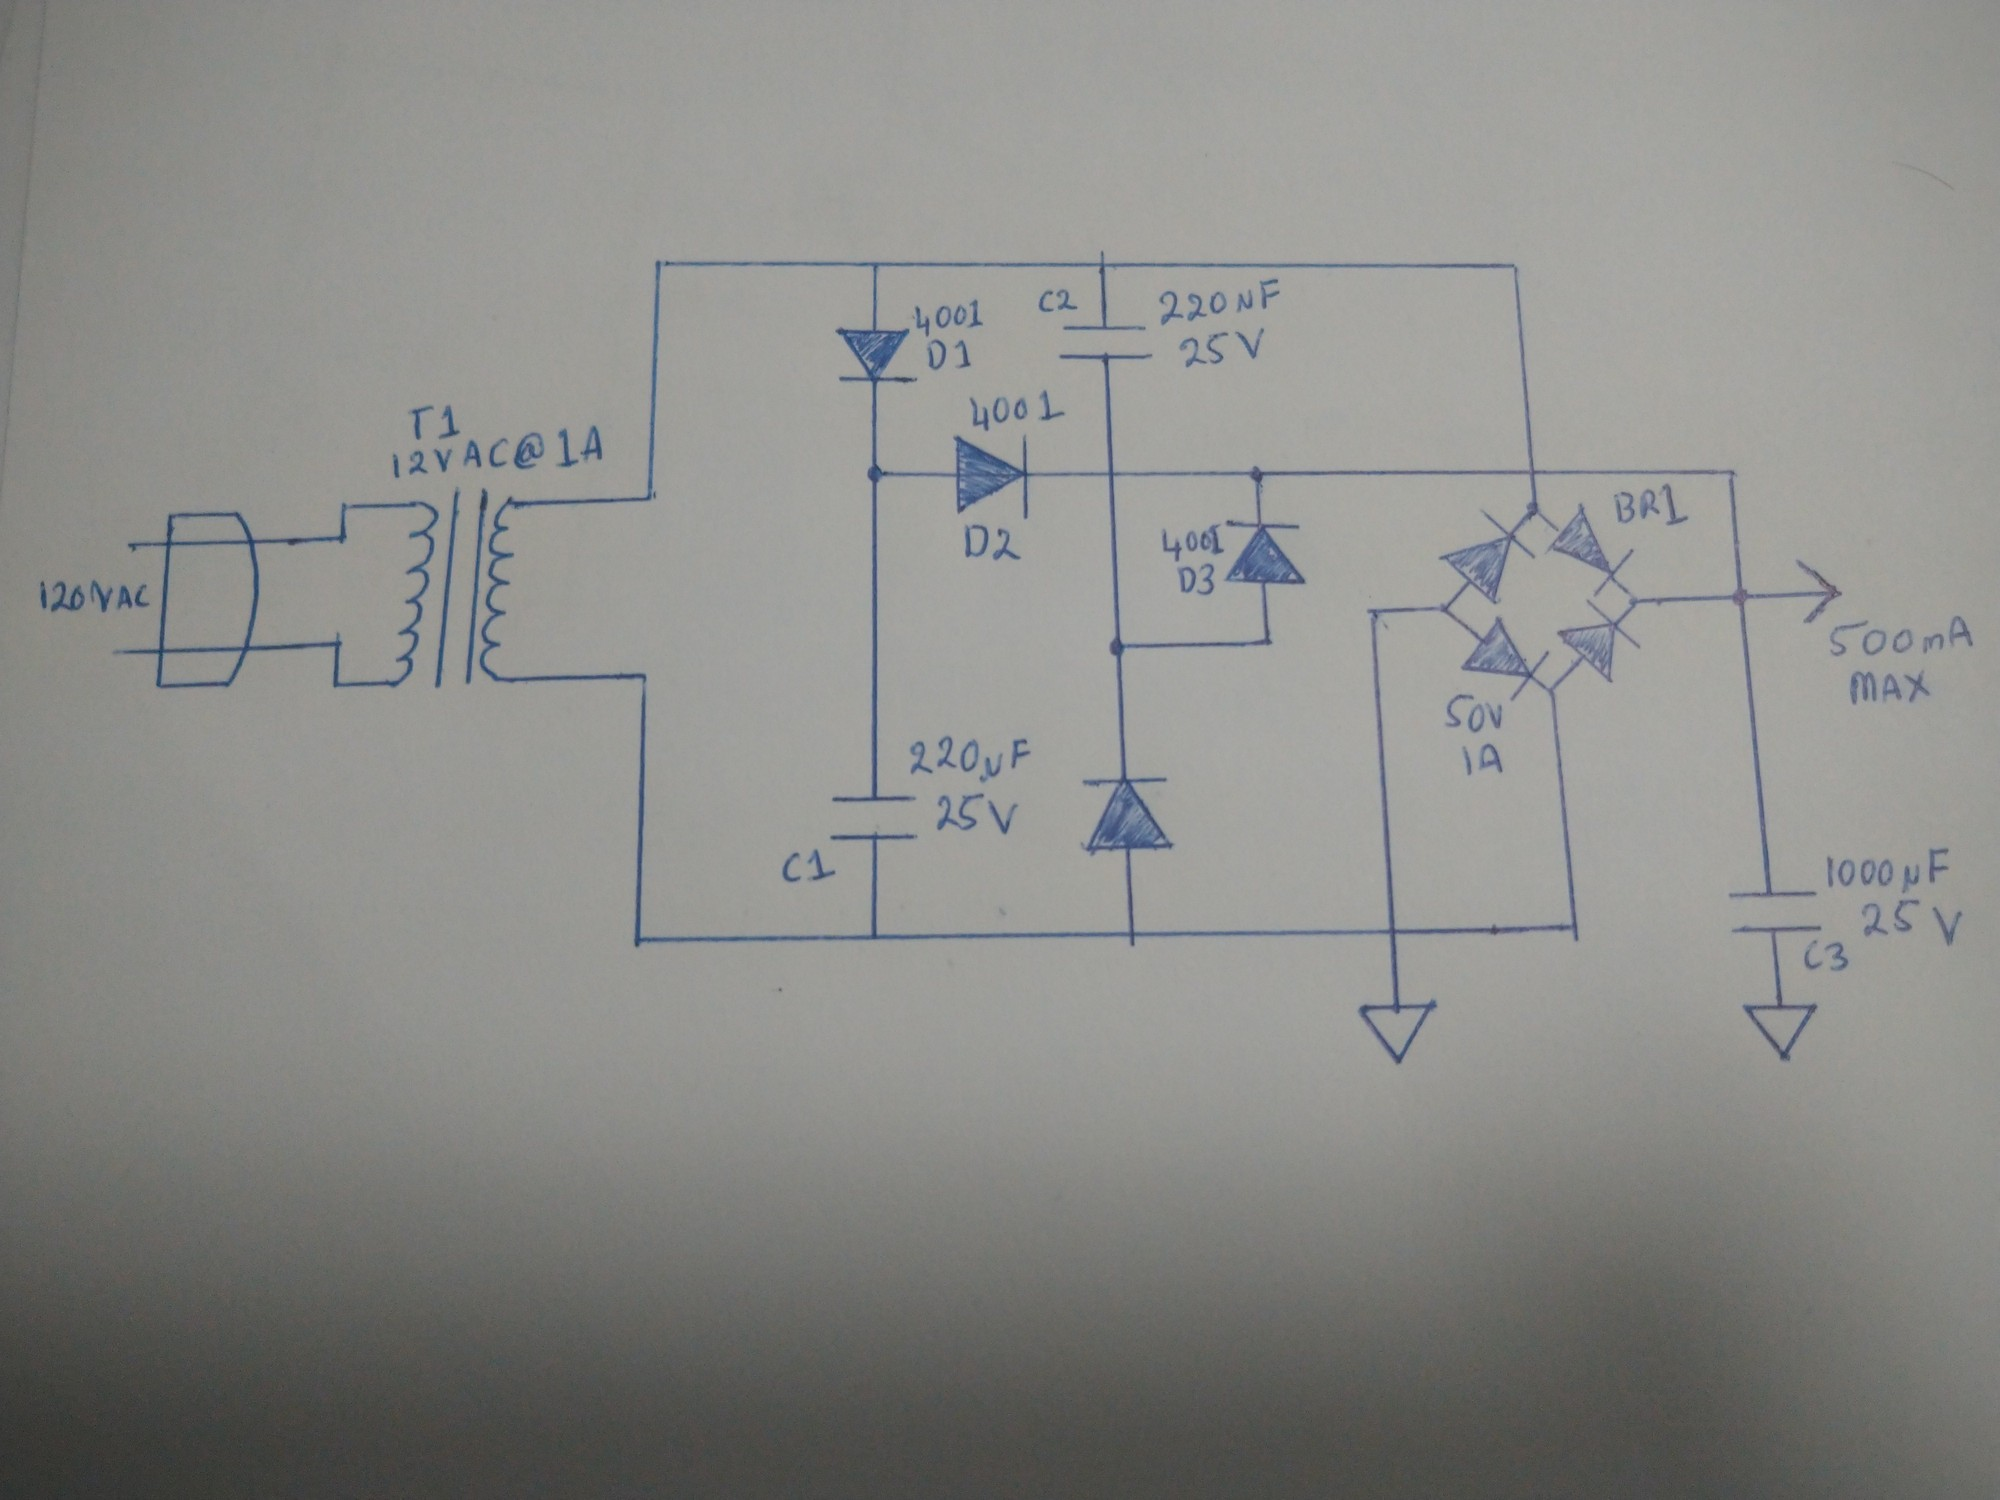capacitor.unpolarized: (828, 791, 921, 852), (1724, 889, 1825, 934), (1057, 321, 1153, 364)
crossover: (1521, 462, 1546, 484), (1101, 462, 1121, 484), (1384, 923, 1402, 941)
diode: (1436, 511, 1535, 605), (1546, 504, 1635, 597), (1079, 775, 1176, 859), (1458, 616, 1550, 701), (951, 432, 1030, 523), (1557, 600, 1643, 682), (831, 323, 918, 391), (1220, 517, 1302, 588)
junction: (861, 459, 890, 487), (1241, 462, 1269, 488), (1109, 633, 1135, 660), (1731, 583, 1753, 610), (1520, 496, 1543, 520), (1565, 920, 1591, 942), (1258, 630, 1282, 652), (1436, 599, 1457, 621), (1362, 603, 1383, 626), (627, 931, 646, 955), (1123, 926, 1143, 947), (1543, 682, 1562, 701), (1094, 255, 1113, 273), (1724, 465, 1742, 482), (650, 255, 668, 273), (1627, 592, 1646, 608), (326, 635, 345, 651), (868, 928, 883, 947), (1506, 258, 1521, 276), (868, 255, 883, 273), (641, 488, 657, 506), (335, 498, 353, 514), (331, 533, 350, 547), (635, 666, 650, 682), (328, 678, 343, 693)
socket: (151, 507, 266, 695)
terminal: (1354, 1001, 1438, 1068), (1742, 1002, 1819, 1064), (1795, 555, 1843, 626), (106, 641, 132, 665), (115, 534, 142, 556)
text: (391, 424, 606, 482), (1156, 276, 1283, 328), (1830, 613, 1973, 659), (1824, 845, 1951, 893), (910, 733, 1030, 782), (1861, 900, 1964, 950), (36, 577, 154, 614), (969, 389, 1068, 433), (935, 791, 1019, 840), (1176, 328, 1266, 370), (1847, 663, 1931, 707), (1616, 482, 1691, 529), (1443, 692, 1509, 733), (913, 298, 987, 332), (962, 523, 1024, 562), (1161, 523, 1224, 561), (408, 402, 465, 443), (780, 849, 835, 886), (1460, 739, 1506, 782), (924, 336, 975, 373), (1802, 939, 1852, 975), (1035, 284, 1079, 315), (1176, 562, 1216, 597)
transformer: (387, 484, 523, 693)
